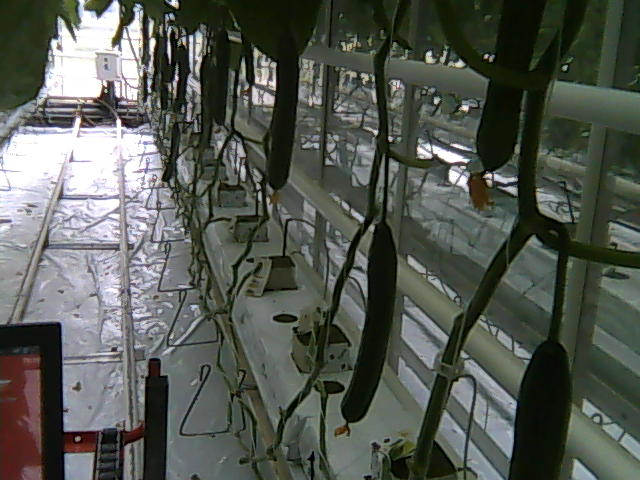concombre: (467, 1, 552, 213), (330, 206, 400, 441), (506, 326, 576, 480), (263, 27, 301, 204)
